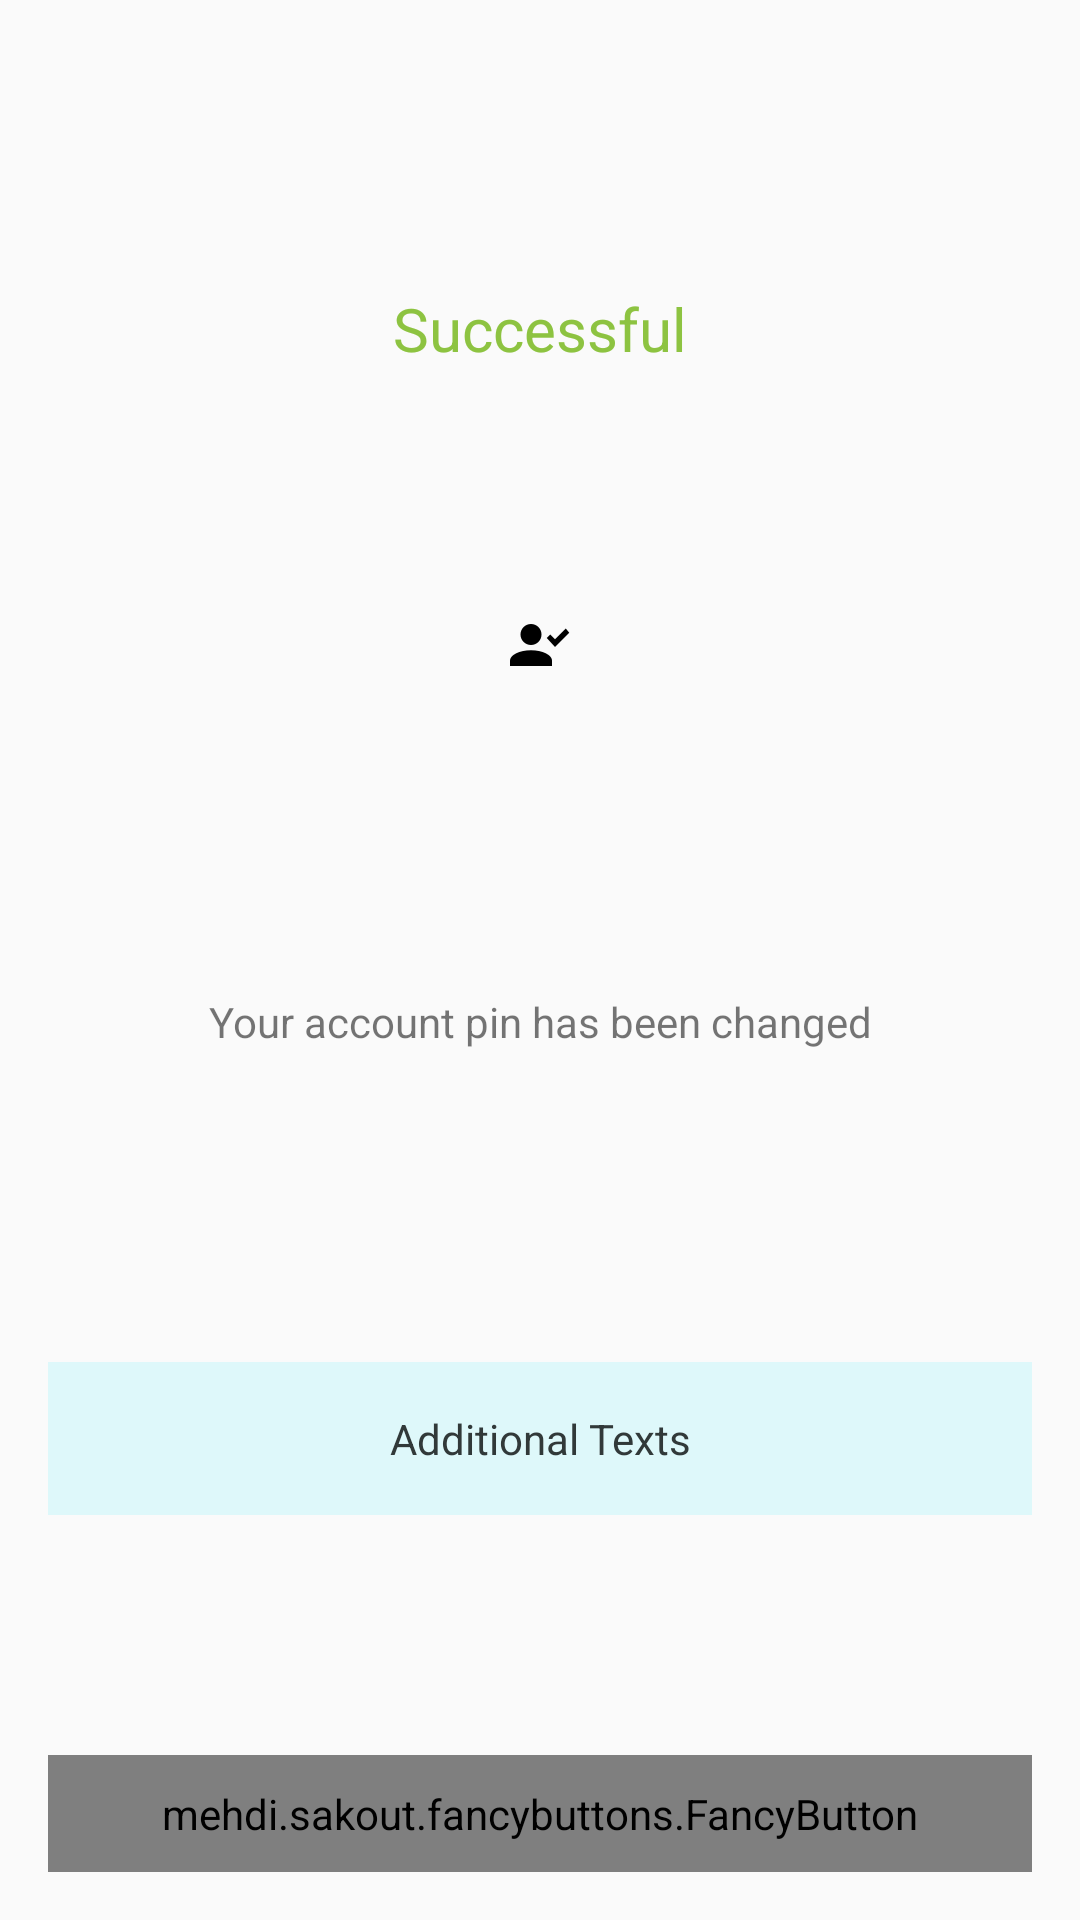

Icon click points for this 1080x1920 phone screenshot, format (x=x, y=y):
account check: (x=539, y=645)
